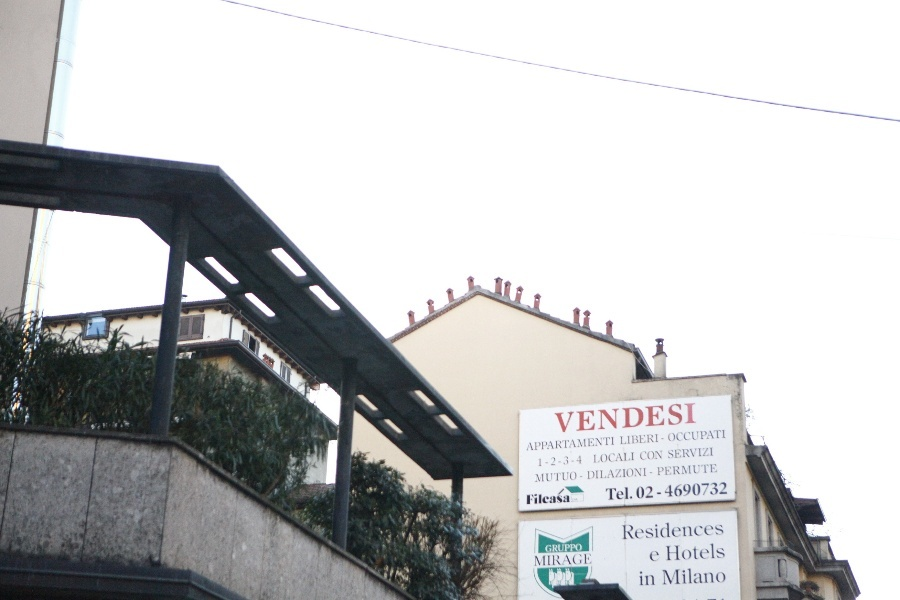text: (561, 402, 576, 436), (577, 402, 592, 436), (593, 402, 608, 436), (609, 402, 624, 436), (625, 402, 640, 436), (641, 402, 656, 436), (657, 402, 672, 436), (673, 402, 688, 436), (609, 481, 624, 502), (625, 481, 640, 502), (641, 481, 656, 502), (657, 481, 672, 502), (673, 481, 688, 502), (689, 481, 704, 502), (705, 481, 720, 502), (625, 521, 640, 541), (641, 521, 656, 541), (657, 521, 672, 541), (673, 521, 688, 541), (689, 521, 704, 541), (705, 521, 720, 541), (673, 542, 688, 562), (689, 542, 704, 562), (705, 542, 720, 562), (673, 567, 688, 587), (689, 567, 704, 587), (705, 567, 720, 587), (545, 464, 560, 483), (561, 464, 576, 483), (577, 464, 592, 483), (593, 464, 608, 483), (609, 464, 624, 483), (625, 464, 640, 483), (641, 464, 656, 483), (657, 464, 672, 483), (673, 464, 688, 483), (689, 464, 704, 483), (689, 402, 697, 436), (705, 464, 718, 483), (529, 436, 544, 452), (545, 436, 560, 452), (561, 436, 576, 452), (577, 436, 592, 452), (593, 436, 608, 452), (641, 571, 656, 587), (660, 567, 672, 587), (553, 402, 560, 436), (673, 429, 688, 443), (689, 429, 704, 443), (705, 429, 720, 443), (545, 553, 560, 567), (561, 553, 576, 567), (577, 553, 592, 567), (545, 455, 560, 468), (561, 455, 576, 468), (593, 451, 608, 464), (609, 451, 624, 464), (529, 493, 544, 506), (545, 493, 560, 506), (534, 464, 544, 483), (625, 434, 640, 446), (641, 434, 656, 446), (673, 447, 688, 459), (689, 447, 704, 459), (641, 450, 656, 461), (664, 542, 672, 562), (533, 553, 544, 567), (545, 543, 560, 553), (561, 543, 576, 553), (721, 481, 728, 502), (625, 451, 635, 464), (721, 542, 727, 562), (721, 567, 727, 587), (561, 493, 570, 506), (705, 447, 714, 459), (609, 436, 615, 452), (537, 455, 544, 468), (649, 551, 656, 563), (721, 521, 725, 541), (618, 434, 624, 446), (666, 447, 672, 459), (667, 429, 672, 443), (721, 429, 726, 443), (657, 450, 663, 461), (577, 455, 582, 468), (605, 481, 608, 502), (577, 543, 583, 553), (637, 571, 640, 587), (622, 521, 624, 541), (657, 551, 660, 563), (526, 493, 528, 506), (657, 434, 659, 446), (572, 498, 576, 502), (639, 450, 640, 461), (577, 498, 579, 502)
